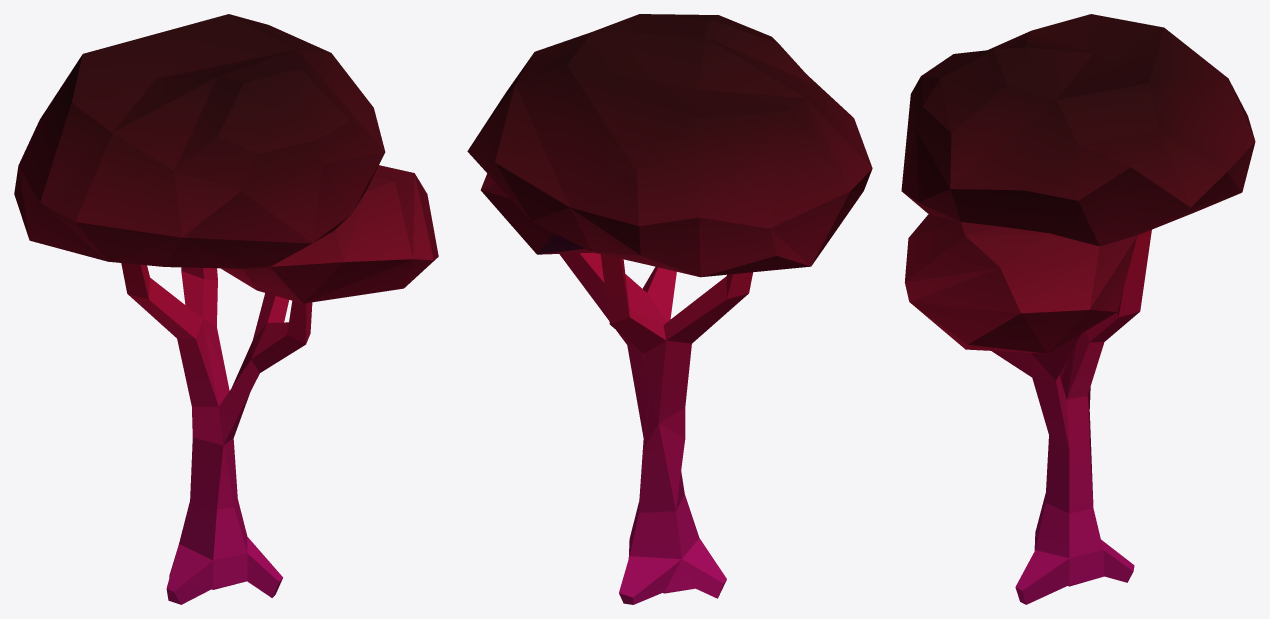
Rendered from tree_O.fbx.
The picture shows the model from 3 angles, left to right: view 1: azimuth 30°, elevation 25°; view 2: azimuth 150°, elevation 25°; view 3: azimuth 270°, elevation 25°; orthographic projection. The views are drawn at different scales.
Visible parts, largest first — view 1: SM_Env_Tree_Peach_01; view 2: SM_Env_Tree_Peach_01; view 3: SM_Env_Tree_Peach_01.
Boxes of the visible parts, x1,y1,x2,y2 form: SM_Env_Tree_Peach_01: (14, 14, 438, 604); SM_Env_Tree_Peach_01: (467, 14, 872, 604); SM_Env_Tree_Peach_01: (901, 14, 1255, 604).
Size of the model in its own units: 324 by 451 by 271.
